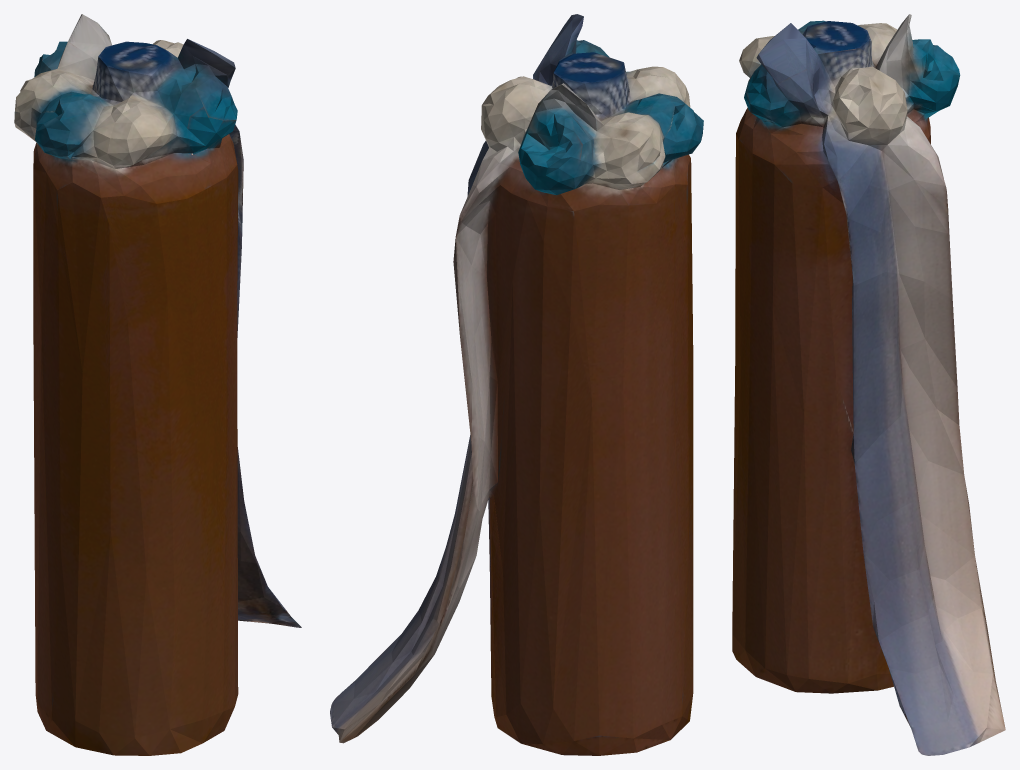
3 views of the same model, side by side, from view 1: azimuth 30°, elevation 25°; view 2: azimuth 150°, elevation 25°; view 3: azimuth 270°, elevation 25° (orthographic). The views are drawn at different scales.
Parts seen in each view (by area): view 1: Pfingstrosenflasche_1k_0.5k; view 2: Pfingstrosenflasche_1k_0.5k; view 3: Pfingstrosenflasche_1k_0.5k.
Part boxes in pixels (bbox=[...]): Pfingstrosenflasche_1k_0.5k: bbox=[14, 14, 301, 755]; Pfingstrosenflasche_1k_0.5k: bbox=[330, 14, 703, 755]; Pfingstrosenflasche_1k_0.5k: bbox=[732, 14, 1005, 755].
Size of the model in its own units: 0.1477 by 0.3093 by 0.1177.
Materials: 1 (1 with a texture image).
